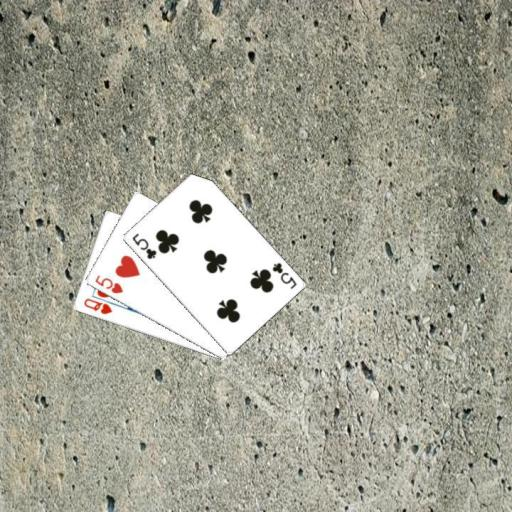5C: (129, 230, 158, 261), (269, 260, 298, 290)
5H: (92, 272, 124, 295)
QH: (80, 295, 113, 316)
